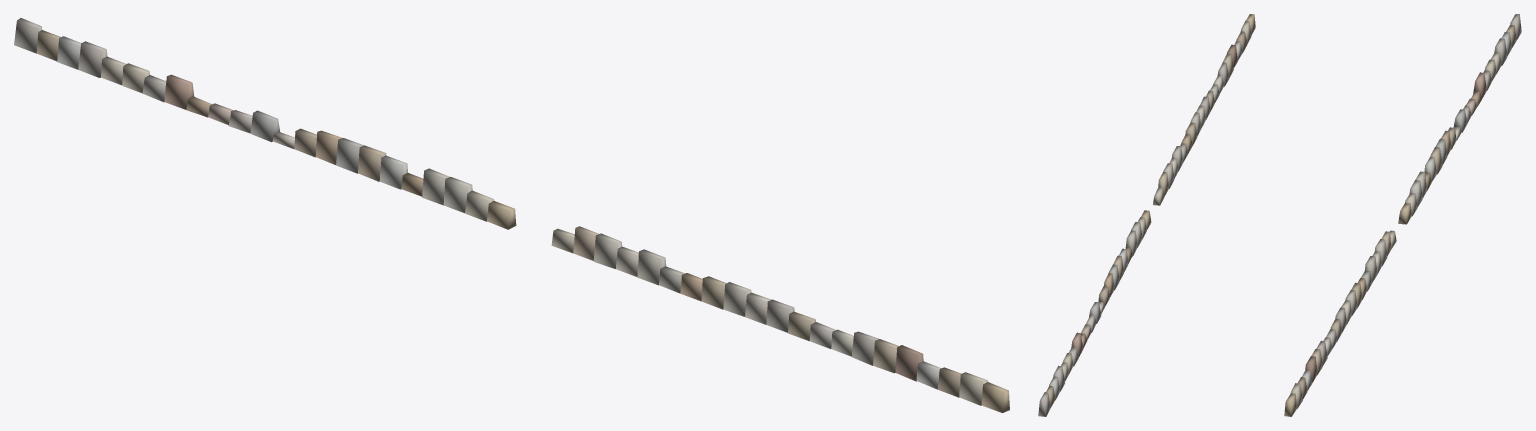
The model's file is farm_-5_11_far.glb.
3 views of the same model, side by side, from view 1: azimuth 30°, elevation 25°; view 2: azimuth 150°, elevation 25°; view 3: azimuth 330°, elevation 25° (orthographic). The views are drawn at different scales.
Parts seen in each view (by area): view 1: geometry_0; view 2: geometry_0; view 3: geometry_0.
Part boxes in pixels (left/top/right/bottom): geometry_0: left=14, top=18, right=1009, bottom=412; geometry_0: left=1038, top=14, right=1255, bottom=416; geometry_0: left=1284, top=14, right=1521, bottom=416.
Bounding box in the file's own units: 21.24 × 2.95 × 69.68.
